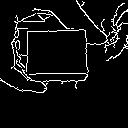cube: (20, 23, 93, 91)
